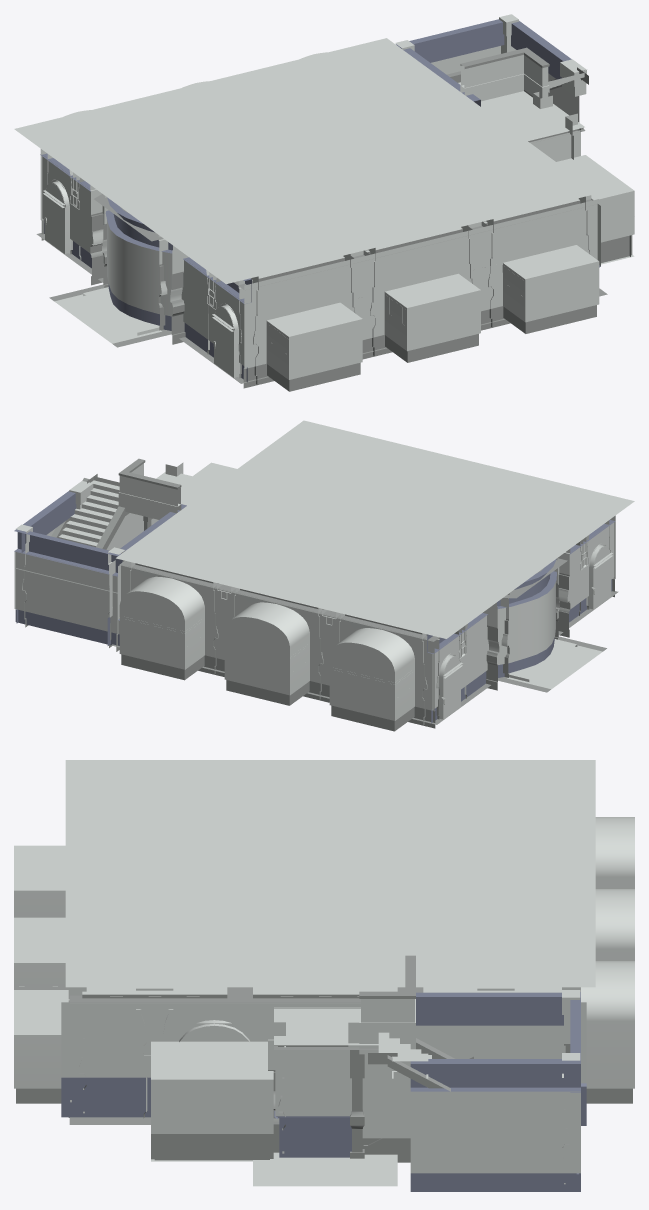
The picture shows the model from 3 angles, top to bottom: view 1: azimuth 30°, elevation 25°; view 2: azimuth 150°, elevation 25°; view 3: azimuth 270°, elevation 25°; orthographic projection. The views are drawn at different scales.
Visible parts, largest first — view 1: G:\FFXIV-MapTools\exports\r2f1\bg\ex1\01_roc_r2\fld\r2f1\bgp (×7); view 2: G:\FFXIV-MapTools\exports\r2f1\bg\ex1\01_roc_r2\fld\r2f1\bgp (×7); view 3: G:\FFXIV-MapTools\exports\r2f1\bg\ex1\01_roc_r2\fld\r2f1\bgp (×6).
Part boxes in pixels (<box>): G:\FFXIV-MapTools\exports\r2f1\bg\ex1\01_roc_r2\fld\r2f1\bgp (×7): <box>14,14,634,391</box>; G:\FFXIV-MapTools\exports\r2f1\bg\ex1\01_roc_r2\fld\r2f1\bgp (×7): <box>14,420,634,731</box>; G:\FFXIV-MapTools\exports\r2f1\bg\ex1\01_roc_r2\fld\r2f1\bgp (×6): <box>14,760,634,1191</box>.
Size of the model in its own units: 36 by 8.9 by 29.14.
